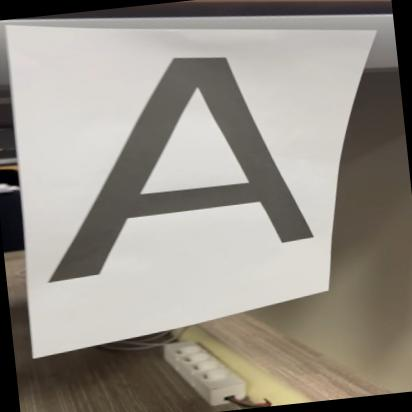seat: (23, 35, 335, 288)
